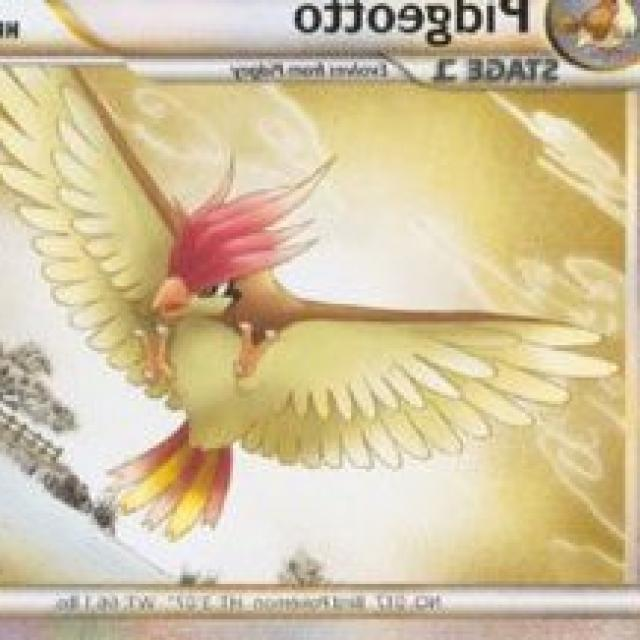Pidgeotto: (70, 184, 404, 536)
